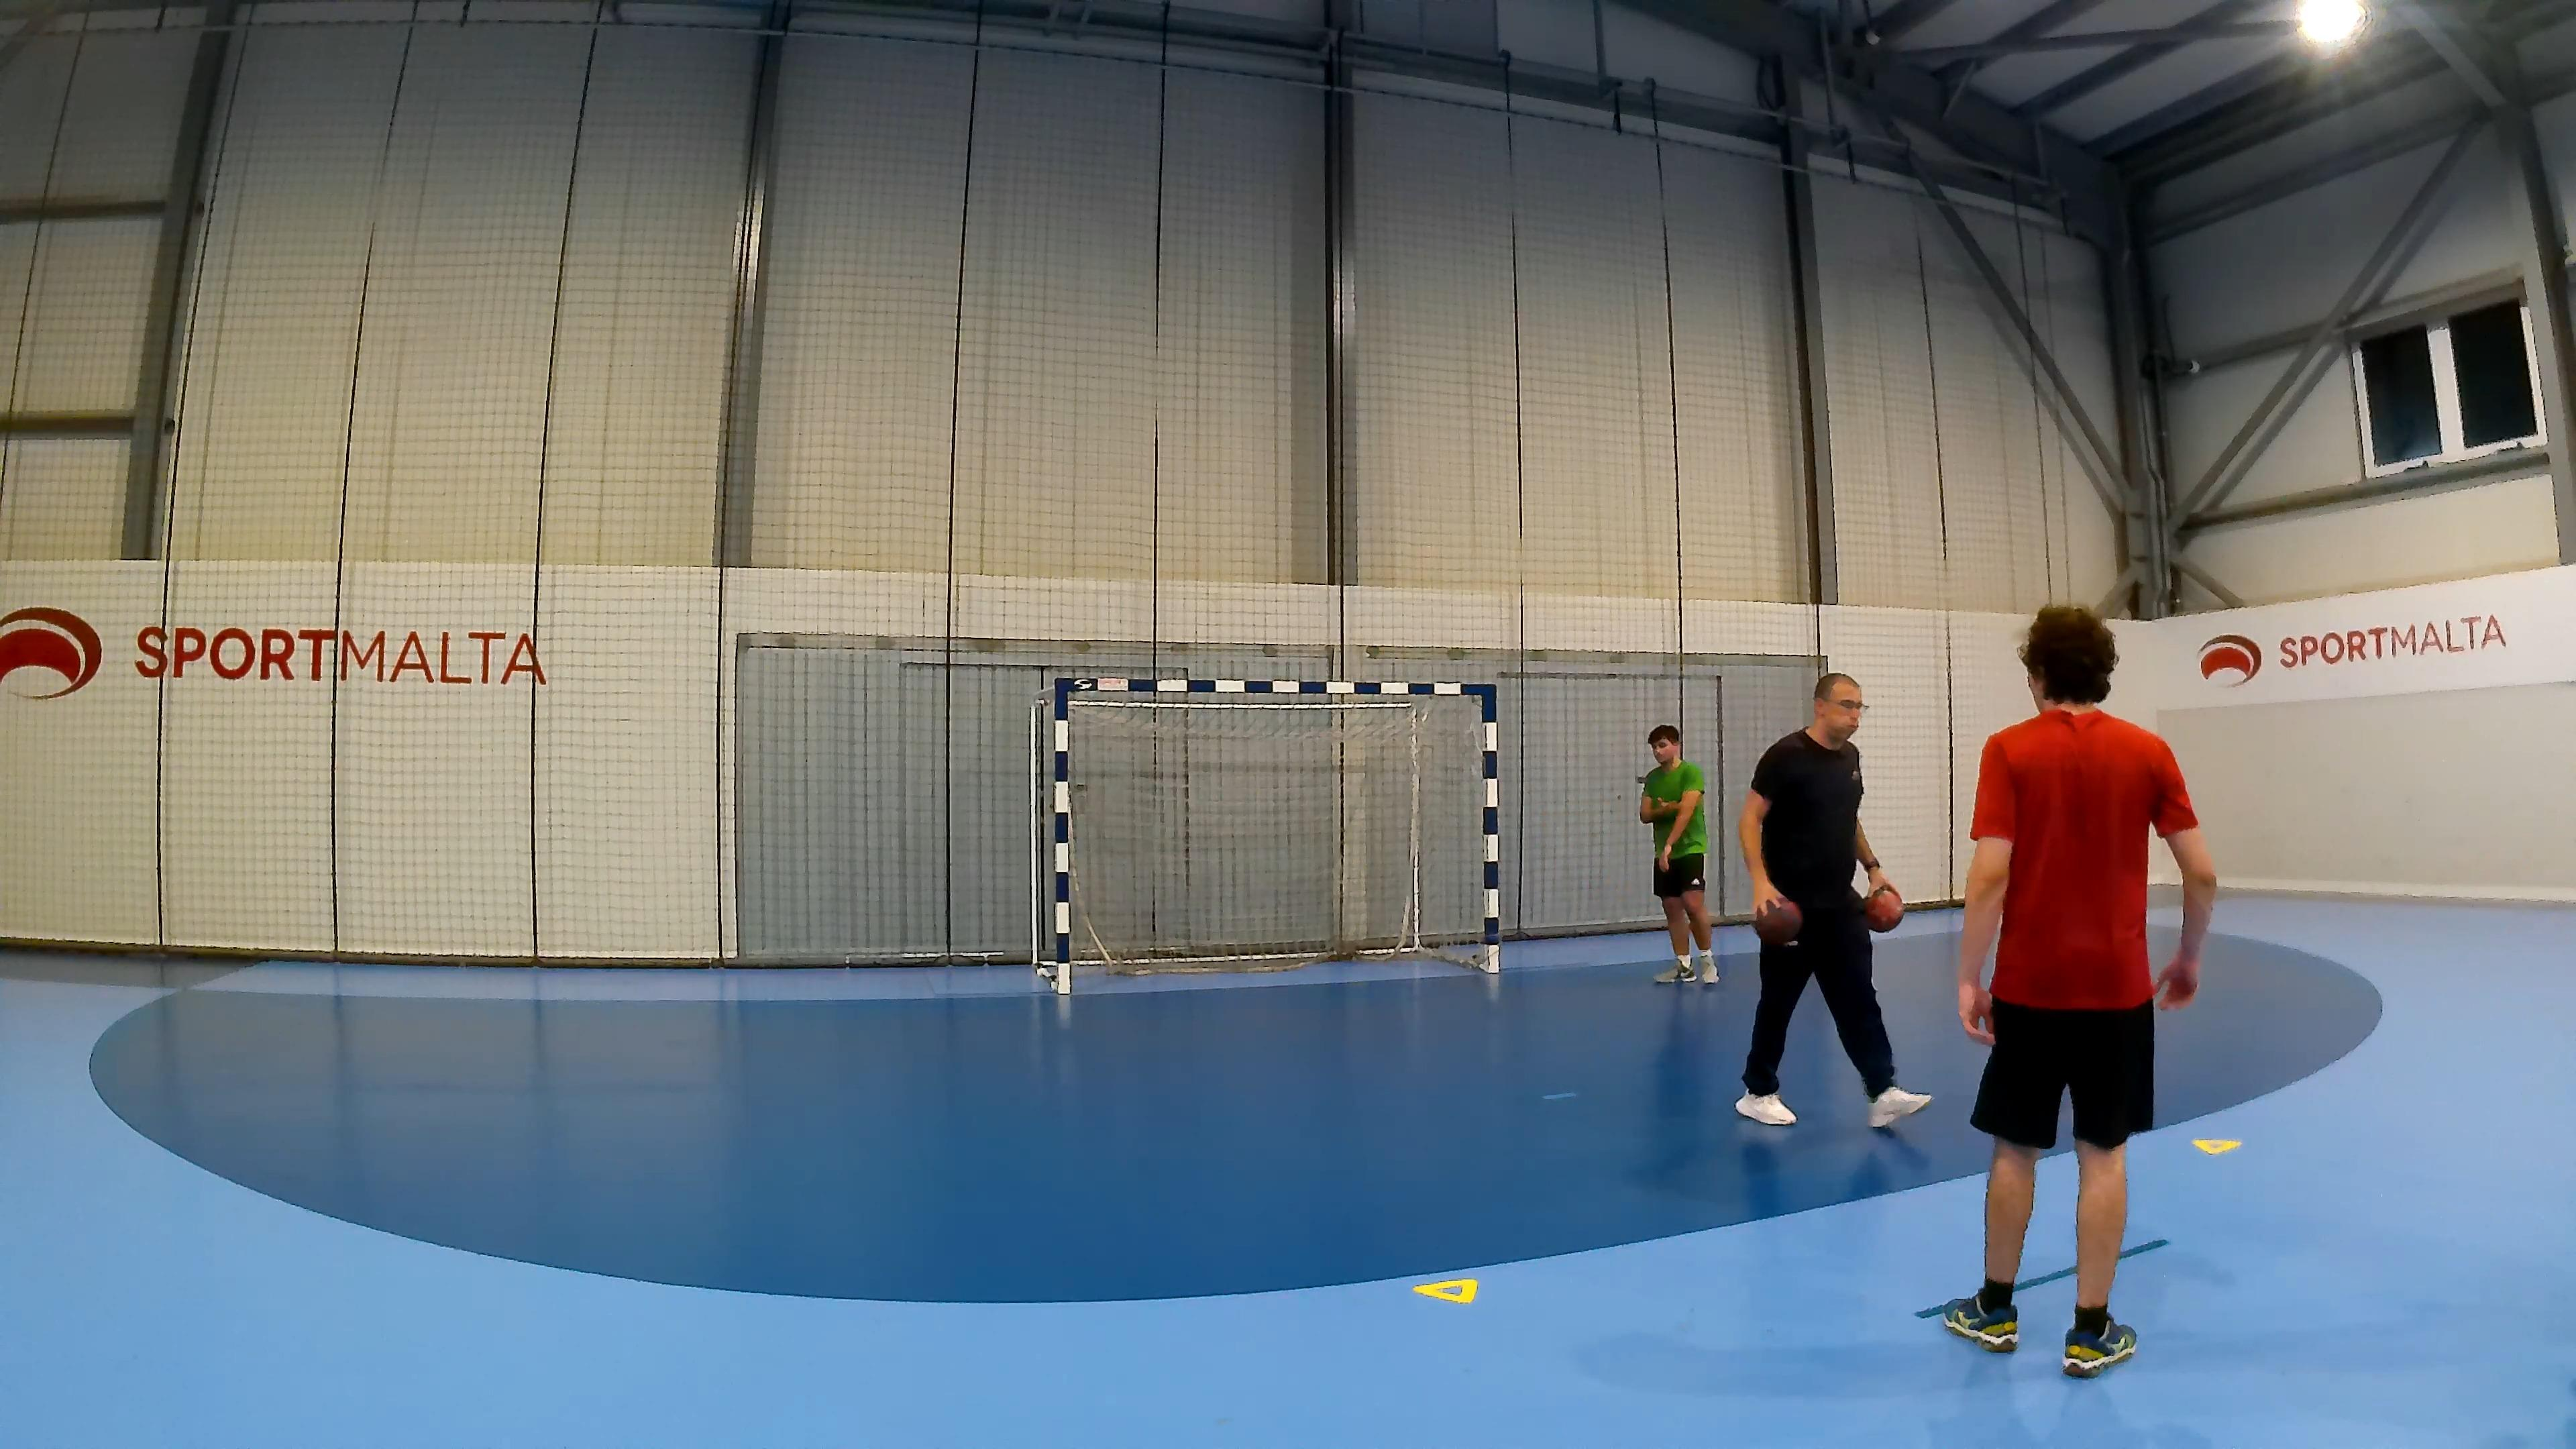handball: (1752, 895, 1801, 947), (1863, 883, 1904, 932)
